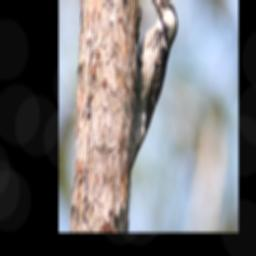Woodpecker: (130, 0, 178, 180)
